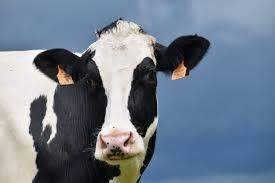cow: (0, 18, 212, 182)
